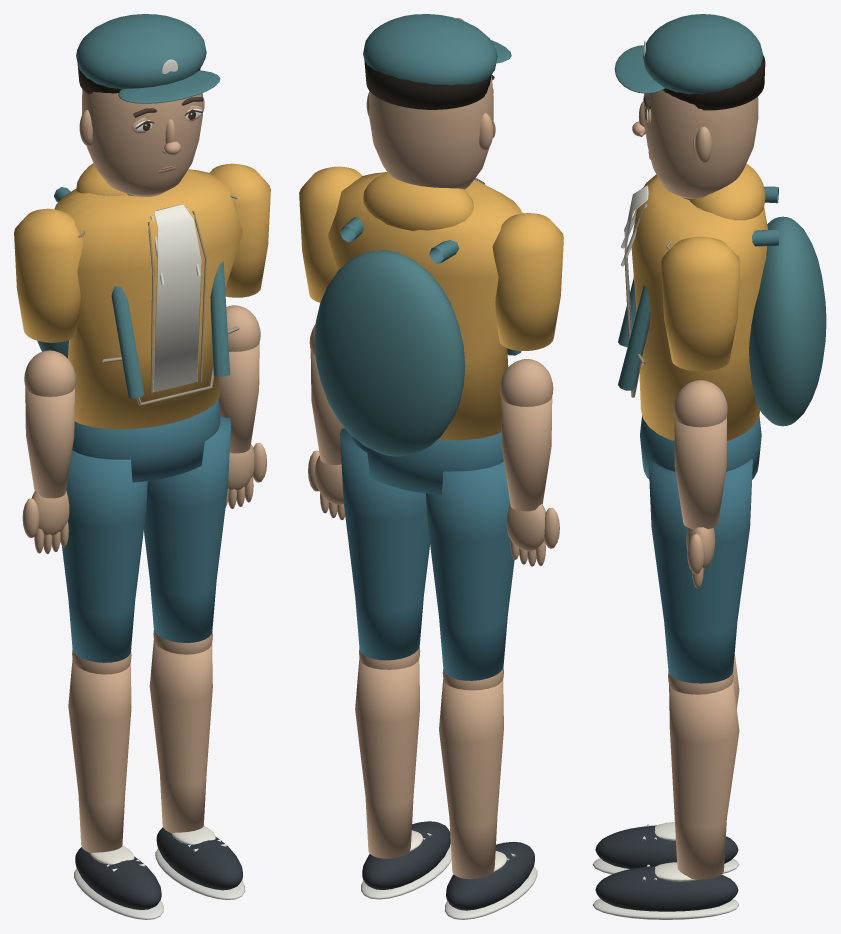
Rendered from npc_child.glb.
3 renders of one model, left to right at view 1: azimuth 30°, elevation 25°; view 2: azimuth 150°, elevation 25°; view 3: azimuth 270°, elevation 25°, orthographic. The views are drawn at different scales.
Parts seen in each view (by area): view 1: Torso_civilian_clothes, trouser thigh, trouser thigh.001, LowerLeg_R_skin, LowerLeg_L_skin, Head_bag, Head_skin, LowerArm_L_skin, Torso_cotton tee, sleeve, LowerArm_R_skin, trouser waist (+7 smaller); view 2: Torso_bag, Torso_civilian_clothes, trouser thigh, trouser thigh.001, LowerLeg_L_skin, LowerLeg_R_skin, LowerArm_L_skin, Head_skin, sleeve, Head_bag, trouser waist, sleeve.001 (+6 smaller); view 3: Torso_civilian_clothes, Torso_bag, trouser thigh.001, LowerLeg_R_skin, Head_skin, sleeve.001, Head_bag, LowerArm_R_skin, sneaker upper.001, sneaker upper, trouser waist, fitted hair cap (+4 smaller).
Part boxes in pixels (left/top/right/bottom): Torso_civilian_clothes: left=54, top=163, right=242, bottom=429; trouser thigh: left=62, top=450, right=147, bottom=662; trouser thigh.001: left=144, top=415, right=231, bottom=642; LowerLeg_R_skin: left=149, top=630, right=212, bottom=833; LowerLeg_L_skin: left=68, top=649, right=131, bottom=852; Head_bag: left=76, top=14, right=220, bottom=103; Head_skin: left=79, top=89, right=202, bottom=196; LowerArm_L_skin: left=22, top=350, right=75, bottom=553; Torso_cotton tee: left=150, top=204, right=201, bottom=392; sleeve: left=14, top=208, right=83, bottom=342; LowerArm_R_skin: left=218, top=305, right=267, bottom=508; trouser waist: left=72, top=399, right=220, bottom=482; Torso_bag: left=314, top=217, right=521, bottom=456; Torso_civilian_clothes: left=328, top=172, right=521, bottom=440; trouser thigh: left=426, top=462, right=514, bottom=680; trouser thigh.001: left=340, top=428, right=429, bottom=660; LowerLeg_L_skin: left=439, top=667, right=503, bottom=879; LowerLeg_R_skin: left=355, top=647, right=420, bottom=858; LowerArm_L_skin: left=500, top=359, right=559, bottom=566; Head_skin: left=366, top=76, right=493, bottom=189; sleeve: left=492, top=213, right=563, bottom=350; Head_bag: left=363, top=14, right=511, bottom=85; trouser waist: left=352, top=432, right=503, bottom=494; sleeve.001: left=299, top=166, right=362, bottom=302; Torso_civilian_clothes: left=631, top=163, right=767, bottom=440; Torso_bag: left=618, top=186, right=826, bottom=426; trouser thigh.001: left=648, top=458, right=752, bottom=683; LowerLeg_R_skin: left=668, top=672, right=739, bottom=879; Head_skin: left=632, top=90, right=758, bottom=198; sleeve.001: left=661, top=236, right=740, bottom=371; Head_bag: left=614, top=14, right=763, bottom=94; LowerArm_R_skin: left=673, top=380, right=727, bottom=588; sneaker upper.001: left=595, top=865, right=738, bottom=911; sneaker upper: left=595, top=825, right=738, bottom=868; trouser waist: left=640, top=415, right=761, bottom=479; fitted hair cap: left=663, top=55, right=765, bottom=110.
Size of the model in its own units: 0.3519 by 1.17 by 0.2856.
